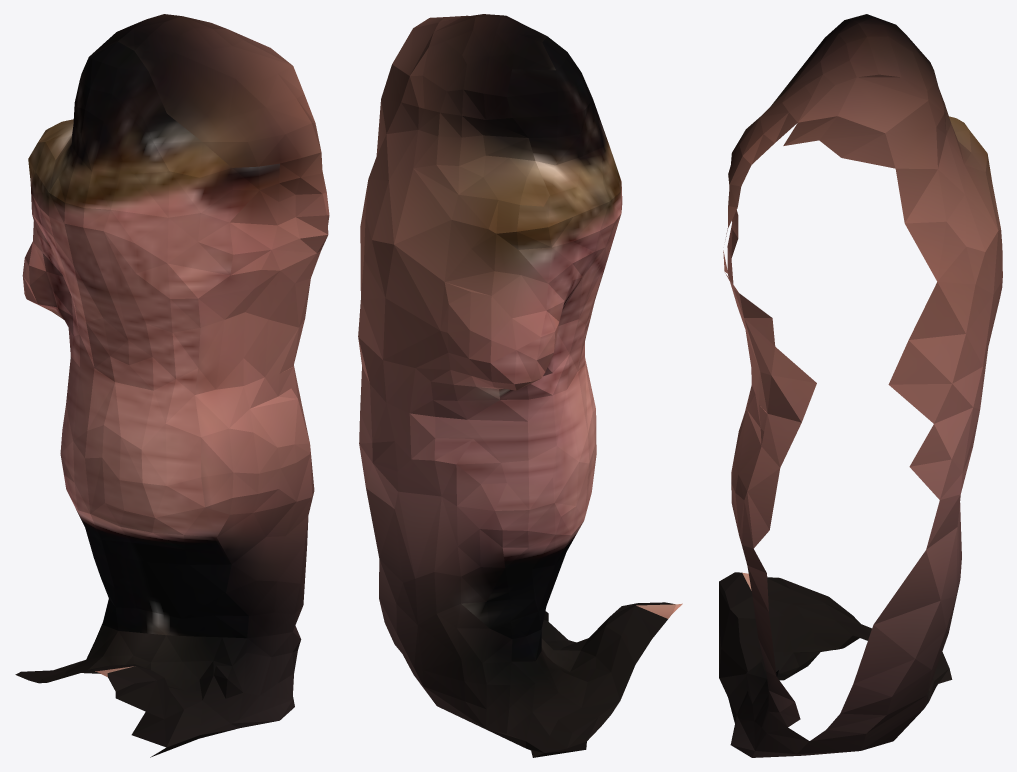
3 renders of one model, left to right at view 1: azimuth 30°, elevation 25°; view 2: azimuth 150°, elevation 25°; view 3: azimuth 270°, elevation 25°, orthographic. The views are drawn at different scales.
Size of the model in its own units: 0.4301 by 1.27 by 0.4712.
Materials: 1 (1 with a texture image).
